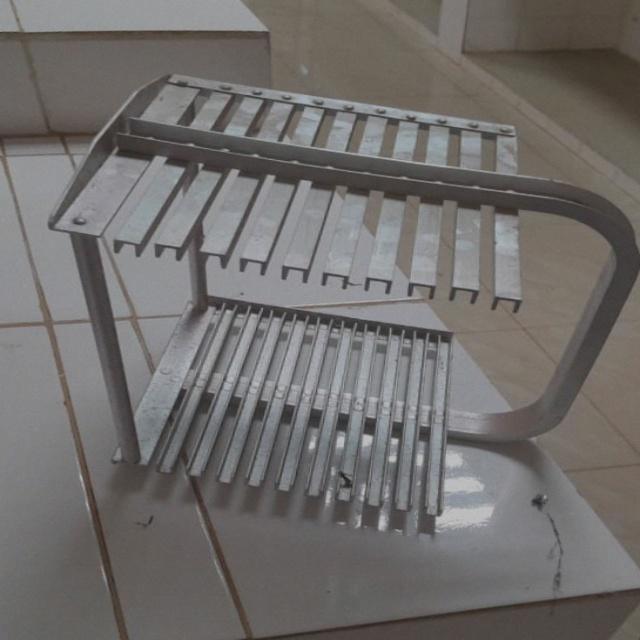Plate Rack: (9, 51, 640, 554)
